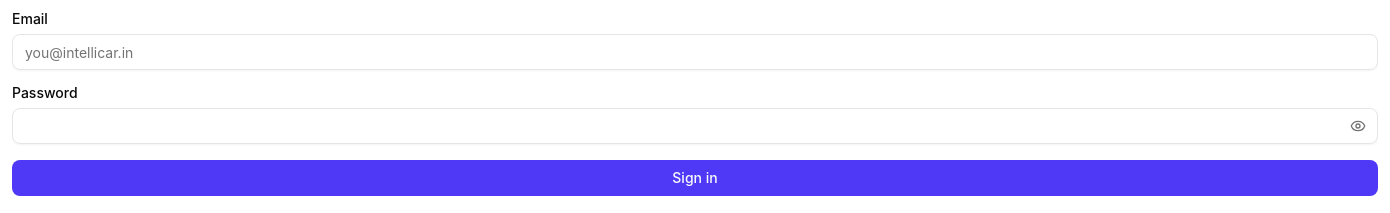
Test: LoginForm › the eye button reveals and hides the password without submitting
This screenshot has width=1390, height=213.
Type "Admin@1234" into the password field labelled "Password" at {"x": 695, "y": 126}, box left=12, top=108, right=1378, bottom=144
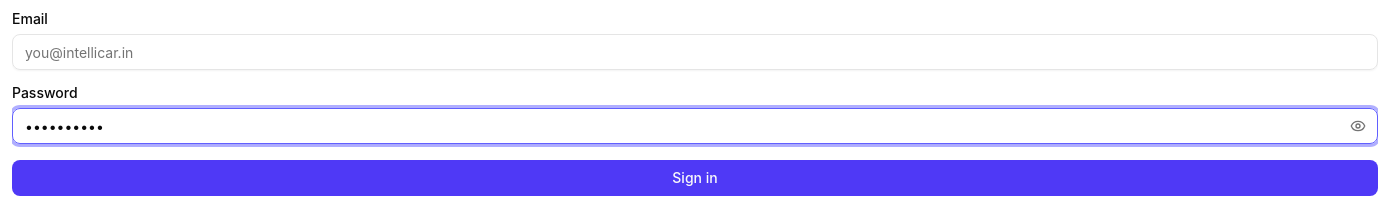
Click the button named "Show password" at {"x": 1358, "y": 126}, box left=1338, top=108, right=1378, bottom=144
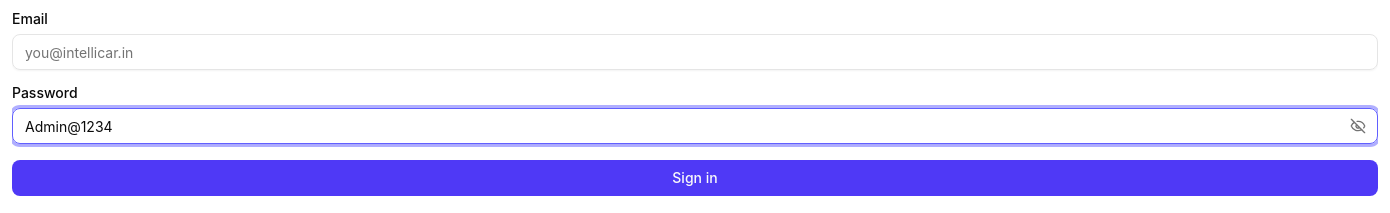
Check: the field labelled "Password" shows its text, box left=12, top=108, right=1378, bottom=144
Click the button named "Hide password" at {"x": 1358, "y": 126}, box left=1338, top=108, right=1378, bottom=144
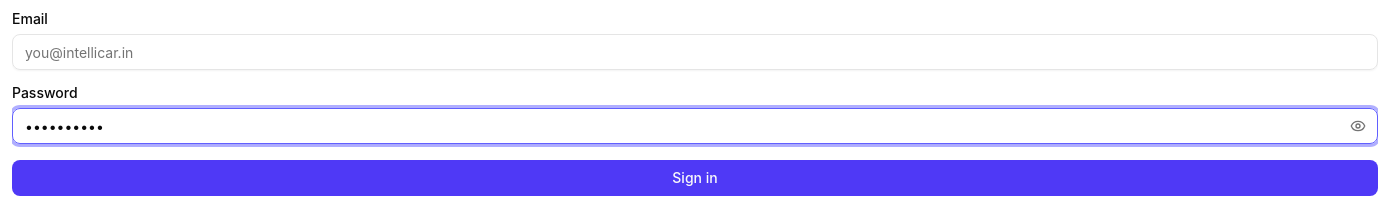
Check: the password field labelled "Password" hides its text, box left=12, top=108, right=1378, bottom=144
